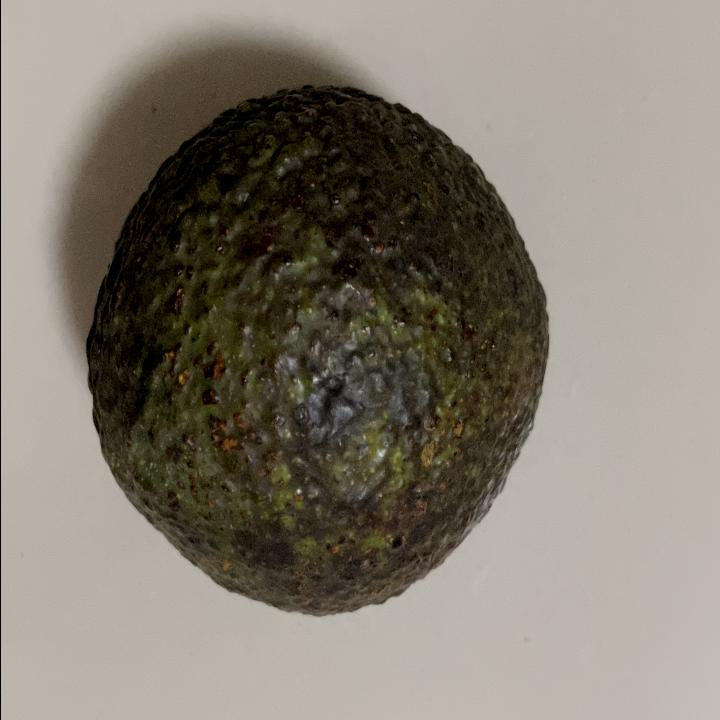Level1: (73, 74, 563, 632)
